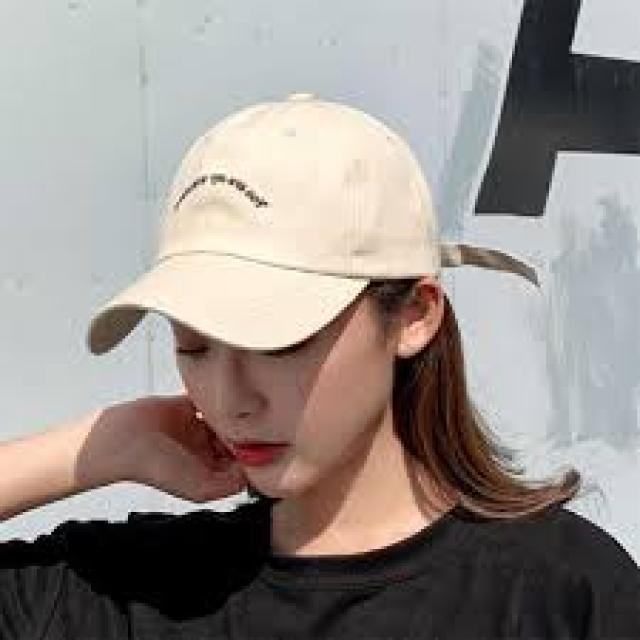cap: (81, 77, 459, 392)
